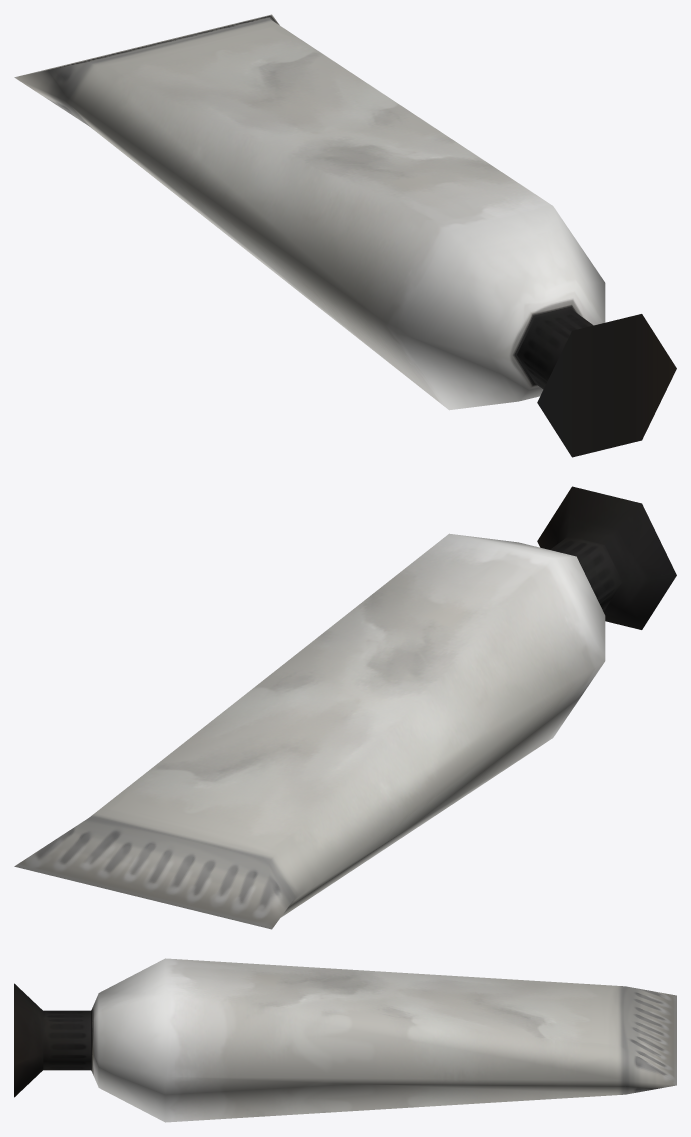
File: Paint_tube.fbx
The picture shows the model from 3 angles, top to bottom: view 1: azimuth 30°, elevation 25°; view 2: azimuth 150°, elevation 25°; view 3: azimuth 270°, elevation 25°; orthographic projection. The views are drawn at different scales.
Visible parts, largest first — view 1: Paint_tube; view 2: Paint_tube; view 3: Paint_tube.
Boxes of the visible parts, <box> form: Paint_tube: <box>14,14,676,457</box>; Paint_tube: <box>14,486,676,929</box>; Paint_tube: <box>14,958,676,1122</box>.
Size of the model in its own units: 17.26 by 11.44 by 53.78.
1 material, 1 textured.
